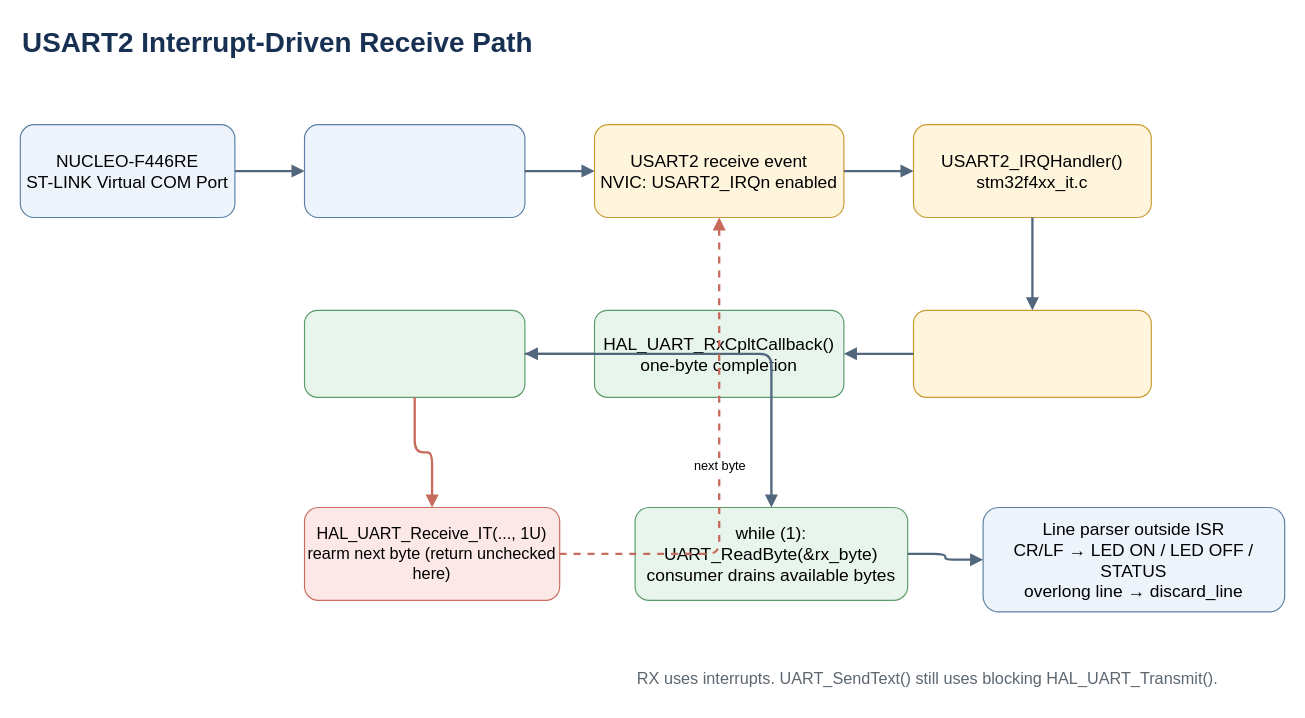
The diagram is 1305 pixels wide and 718 high, and some of its shapes have lost their labels. Here are the shapes that lost their labels. From the top down, the box of each, then its label:
(303, 124, 525, 217): USART2 pins PA3 RX | PA2 TX 115200, 8N1
(303, 309, 525, 397): Check next_head != tail enqueue byte OR increment uart_rx_dropped
(912, 309, 1151, 397): HAL_UART_IRQHandler(&huart2)
